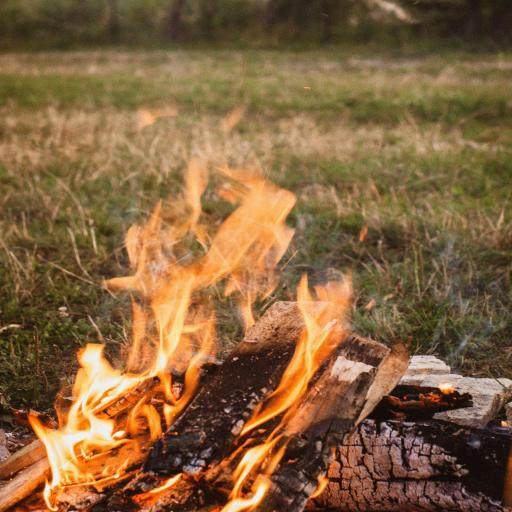campfire: (3, 165, 510, 512)
